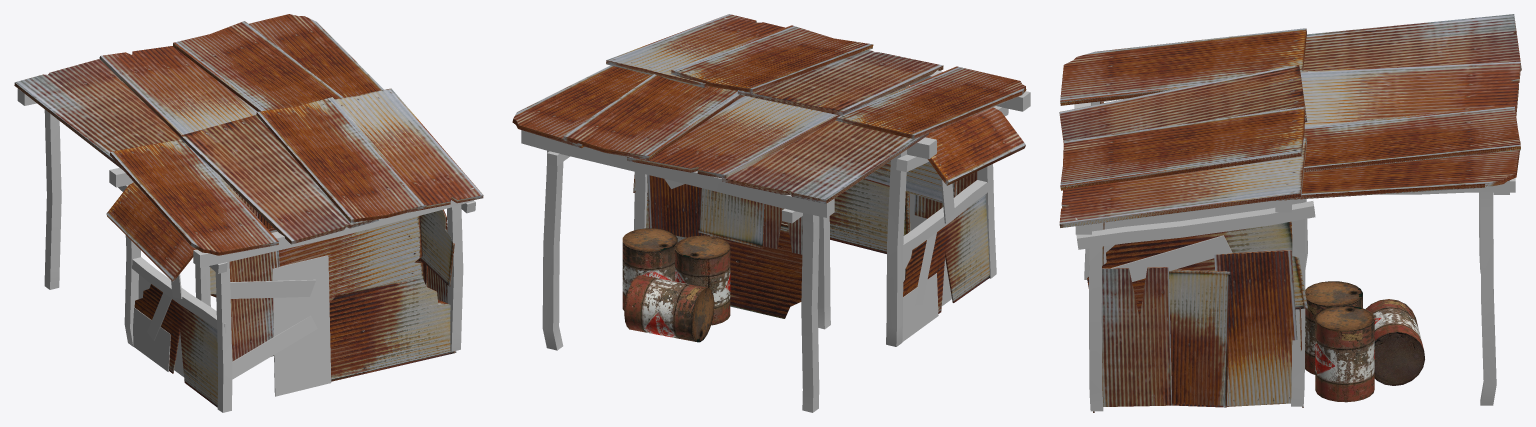
The picture shows the model from 3 angles, left to right: view 1: azimuth 30°, elevation 25°; view 2: azimuth 150°, elevation 25°; view 3: azimuth 270°, elevation 25°; orthographic projection. The views are drawn at different scales.
Parts seen in each view (by area): view 1: pasted__pasted__pasted__pCube1_pasted__pasted__pasted__lambe (×4), pasted__pasted__pCube1 (×3), pasted__pCube1 (×2), pasted__pasted__pasted__pCube2_pasted__pasted__pasted__lambe (×4), pasted__pasted__pasted__pasted__pCube1_pasted__pasted__paste, pCube1, pasted__pasted__pCube3, pasted__pasted__pasted__pCube3_pasted__pasted__pasted__lambe (×2), pasted__pCube4, pasted__pasted__pasted__pasted__pCube4_pasted__pasted__paste (×2), pasted__pasted__pasted__pCube4_pasted__pasted__pasted__lambe (×2), pCube4 (+3 smaller); view 2: pasted__pasted__pasted__pCube1_pasted__pasted__pasted__lambe (×4), pasted__pCube1 (×2), pasted__pasted__pCube1 (×3), pasted__pasted__pasted__pCube2_pasted__pasted__pasted__lambe (×2), pasted__pasted__pCube4 (×4), pCube1, pasted__pCylinder1 (×2), pasted__pasted__pasted__pasted__pCube1_pasted__pasted__paste, pasted__pasted__pCube2 (×2), pasted__pasted__pasted__pCube4_pasted__pasted__pasted__lambe (×3), pasted__pCube4, pasted__pCube2 (+6 smaller); view 3: pasted__pCube1 (×2), pasted__pasted__pCube1 (×2), pasted__pasted__pasted__pCube1_pasted__pasted__pasted__lambe (×2), pasted__pasted__pasted__pCube2_pasted__pasted__pasted__lambe (×2), pasted__pasted__pasted__pasted__pCube1_pasted__pasted__paste, pasted__pCube2, pCube1, pasted__pasted__pCube2, pasted__pasted__pCube4 (×4), pasted__pCylinder1 (×2), pCylinder1, pasted__pasted__pasted__pCube4_pasted__pasted__pasted__lambe (+2 smaller).
Part boxes in pixels (bbox=[...]): pasted__pasted__pasted__pCube1_pasted__pasted__pasted__lambe (×4): bbox=[106, 14, 426, 302]; pasted__pasted__pCube1 (×3): bbox=[173, 21, 483, 361]; pasted__pCube1 (×2): bbox=[99, 46, 378, 244]; pasted__pasted__pasted__pCube2_pasted__pasted__pasted__lambe (×4): bbox=[134, 209, 456, 407]; pasted__pasted__pasted__pasted__pCube1_pasted__pasted__paste: bbox=[110, 139, 278, 255]; pCube1: bbox=[14, 59, 180, 170]; pasted__pasted__pCube3: bbox=[272, 255, 331, 396]; pasted__pasted__pasted__pCube3_pasted__pasted__pasted__lambe (×2): bbox=[133, 307, 317, 379]; pasted__pCube4: bbox=[44, 109, 61, 289]; pasted__pasted__pasted__pasted__pCube4_pasted__pasted__paste (×2): bbox=[193, 188, 473, 306]; pasted__pasted__pasted__pCube4_pasted__pasted__pasted__lambe (×2): bbox=[124, 235, 217, 346]; pCube4: bbox=[215, 261, 232, 412]; pasted__pasted__pasted__pCube1_pasted__pasted__pasted__lambe (×4): bbox=[512, 25, 1025, 202]; pasted__pCube1 (×2): bbox=[627, 50, 943, 178]; pasted__pasted__pCube1 (×3): bbox=[563, 14, 977, 218]; pasted__pasted__pasted__pCube2_pasted__pasted__pasted__lambe (×2): bbox=[781, 179, 989, 313]; pasted__pasted__pCube4 (×4): bbox=[521, 106, 1008, 350]; pCube1: bbox=[722, 120, 928, 203]; pasted__pCylinder1 (×2): bbox=[624, 235, 730, 342]; pasted__pasted__pasted__pasted__pCube1_pasted__pasted__paste: bbox=[836, 66, 1026, 139]; pasted__pasted__pCube2 (×2): bbox=[646, 193, 802, 318]; pasted__pasted__pasted__pCube4_pasted__pasted__pasted__lambe (×3): bbox=[886, 137, 987, 346]; pasted__pCube4: bbox=[801, 213, 819, 412]; pasted__pCube2: bbox=[698, 188, 764, 248]; pasted__pCube1 (×2): bbox=[1059, 61, 1520, 142]; pasted__pasted__pCube1 (×2): bbox=[1059, 105, 1520, 227]; pasted__pasted__pasted__pCube1_pasted__pasted__pasted__lambe (×2): bbox=[1060, 106, 1520, 200]; pasted__pasted__pasted__pCube2_pasted__pasted__pasted__lambe (×2): bbox=[1087, 221, 1307, 406]; pasted__pasted__pasted__pasted__pCube1_pasted__pasted__paste: bbox=[1060, 28, 1306, 105]; pasted__pCube2: bbox=[1214, 250, 1297, 406]; pCube1: bbox=[1303, 14, 1521, 71]; pasted__pasted__pCube2: bbox=[1169, 269, 1230, 407]; pasted__pasted__pCube4 (×4): bbox=[1089, 178, 1515, 411]; pasted__pCylinder1 (×2): bbox=[1305, 281, 1424, 385]; pCylinder1: bbox=[1315, 305, 1374, 402]; pasted__pasted__pasted__pCube4_pasted__pasted__pasted__lambe: bbox=[1076, 201, 1315, 249].
Bounding box in the file's own units: 0.0262 × 0.0174 × 0.0294.
